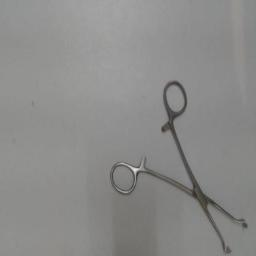Babcock Tissue Forceps: (107, 74, 251, 256)
